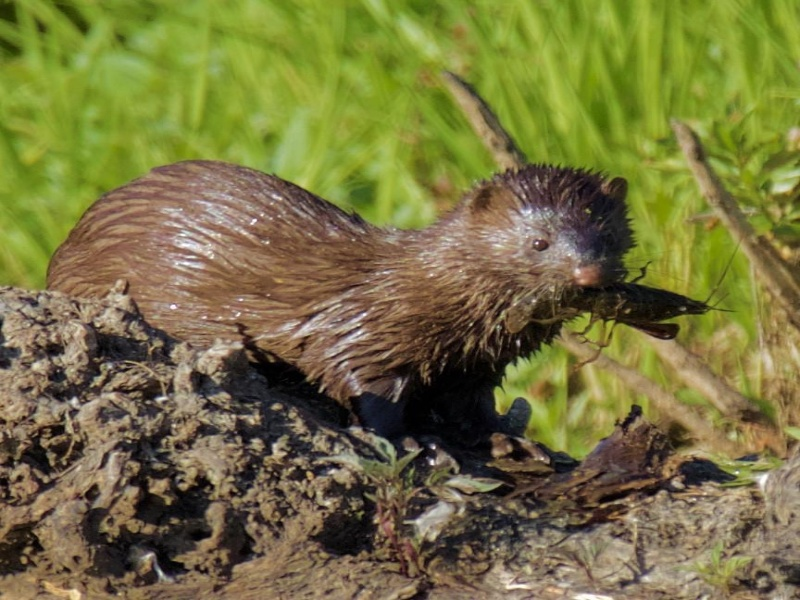minkish: (40, 158, 636, 459)
